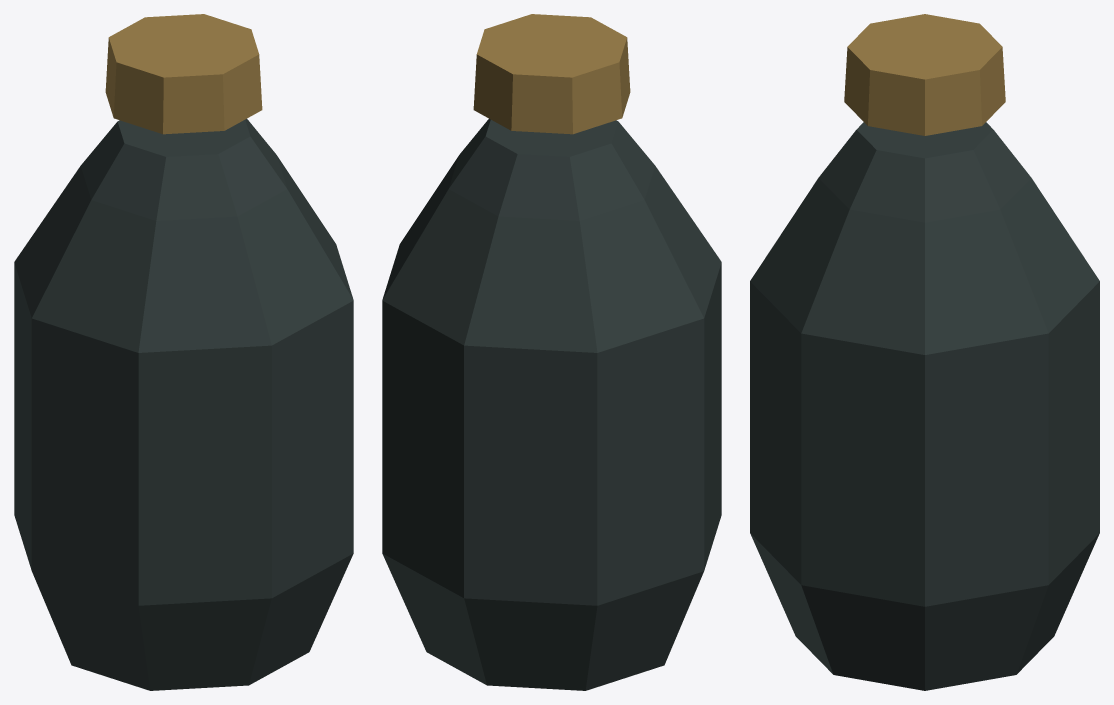
The model's file is potion.obj.
3 renders of one model, left to right at view 1: azimuth 30°, elevation 25°; view 2: azimuth 150°, elevation 25°; view 3: azimuth 270°, elevation 25°, orthographic.
Parts seen in each view (by area): view 1: potion; view 2: potion; view 3: potion.
Part boxes in pixels (box(x1,y1,x2,y2)): potion: box(14, 14, 353, 690); potion: box(382, 14, 721, 690); potion: box(750, 14, 1099, 690).
Size of the model in its own units: 0.92 by 1.71 by 0.92.
